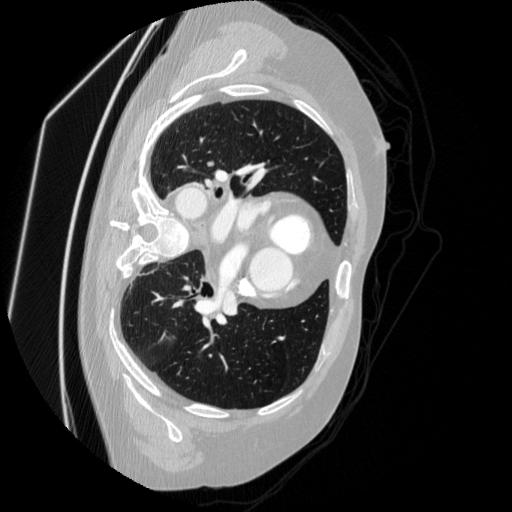nodule: (204, 159, 218, 173)
